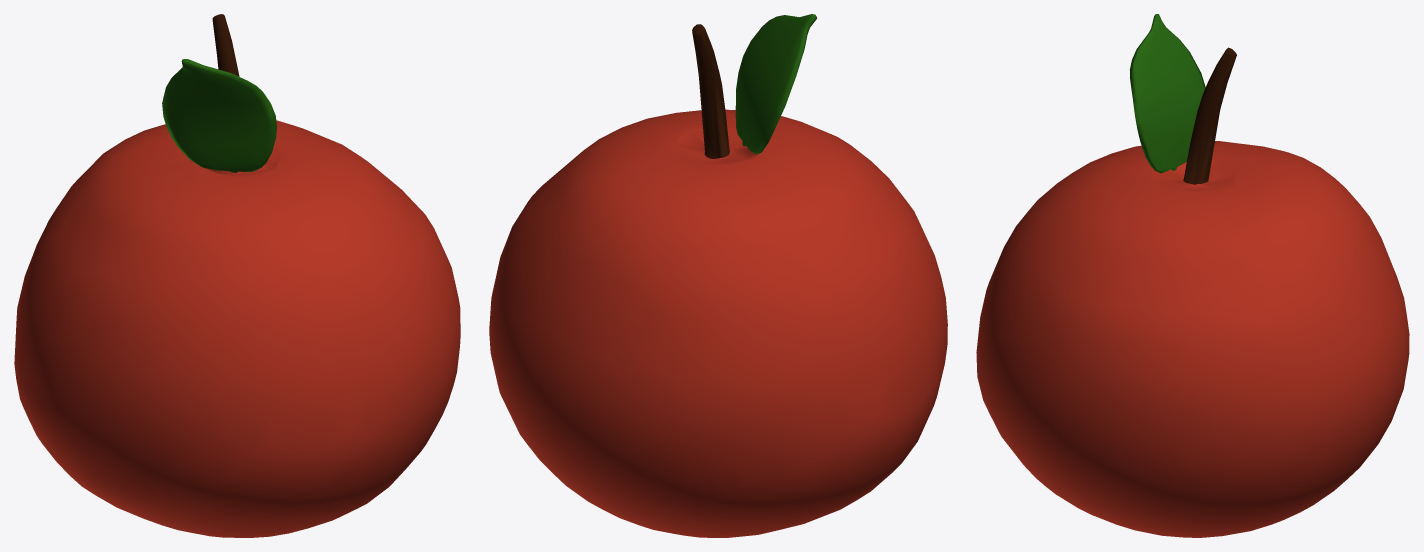
Rendered from Apple.fbx.
3 views of the same model, side by side, from view 1: azimuth 30°, elevation 25°; view 2: azimuth 150°, elevation 25°; view 3: azimuth 270°, elevation 25° (orthographic). The views are drawn at different scales.
Parts seen in each view (by area): view 1: Apple_mods.001, Leaf.002; view 2: Apple_mods.001, Leaf.002; view 3: Apple_mods.001, Leaf.002.
Part boxes in pixels (left/top/right/bottom): Apple_mods.001: left=14, top=14, right=460, bottom=537; Leaf.002: left=162, top=59, right=276, bottom=172; Apple_mods.001: left=489, top=24, right=947, bottom=537; Leaf.002: left=735, top=14, right=816, bottom=154; Apple_mods.001: left=976, top=47, right=1409, bottom=537; Leaf.002: left=1130, top=14, right=1205, bottom=173.
Bounding box in the file's own units: 113 × 136 × 114.
